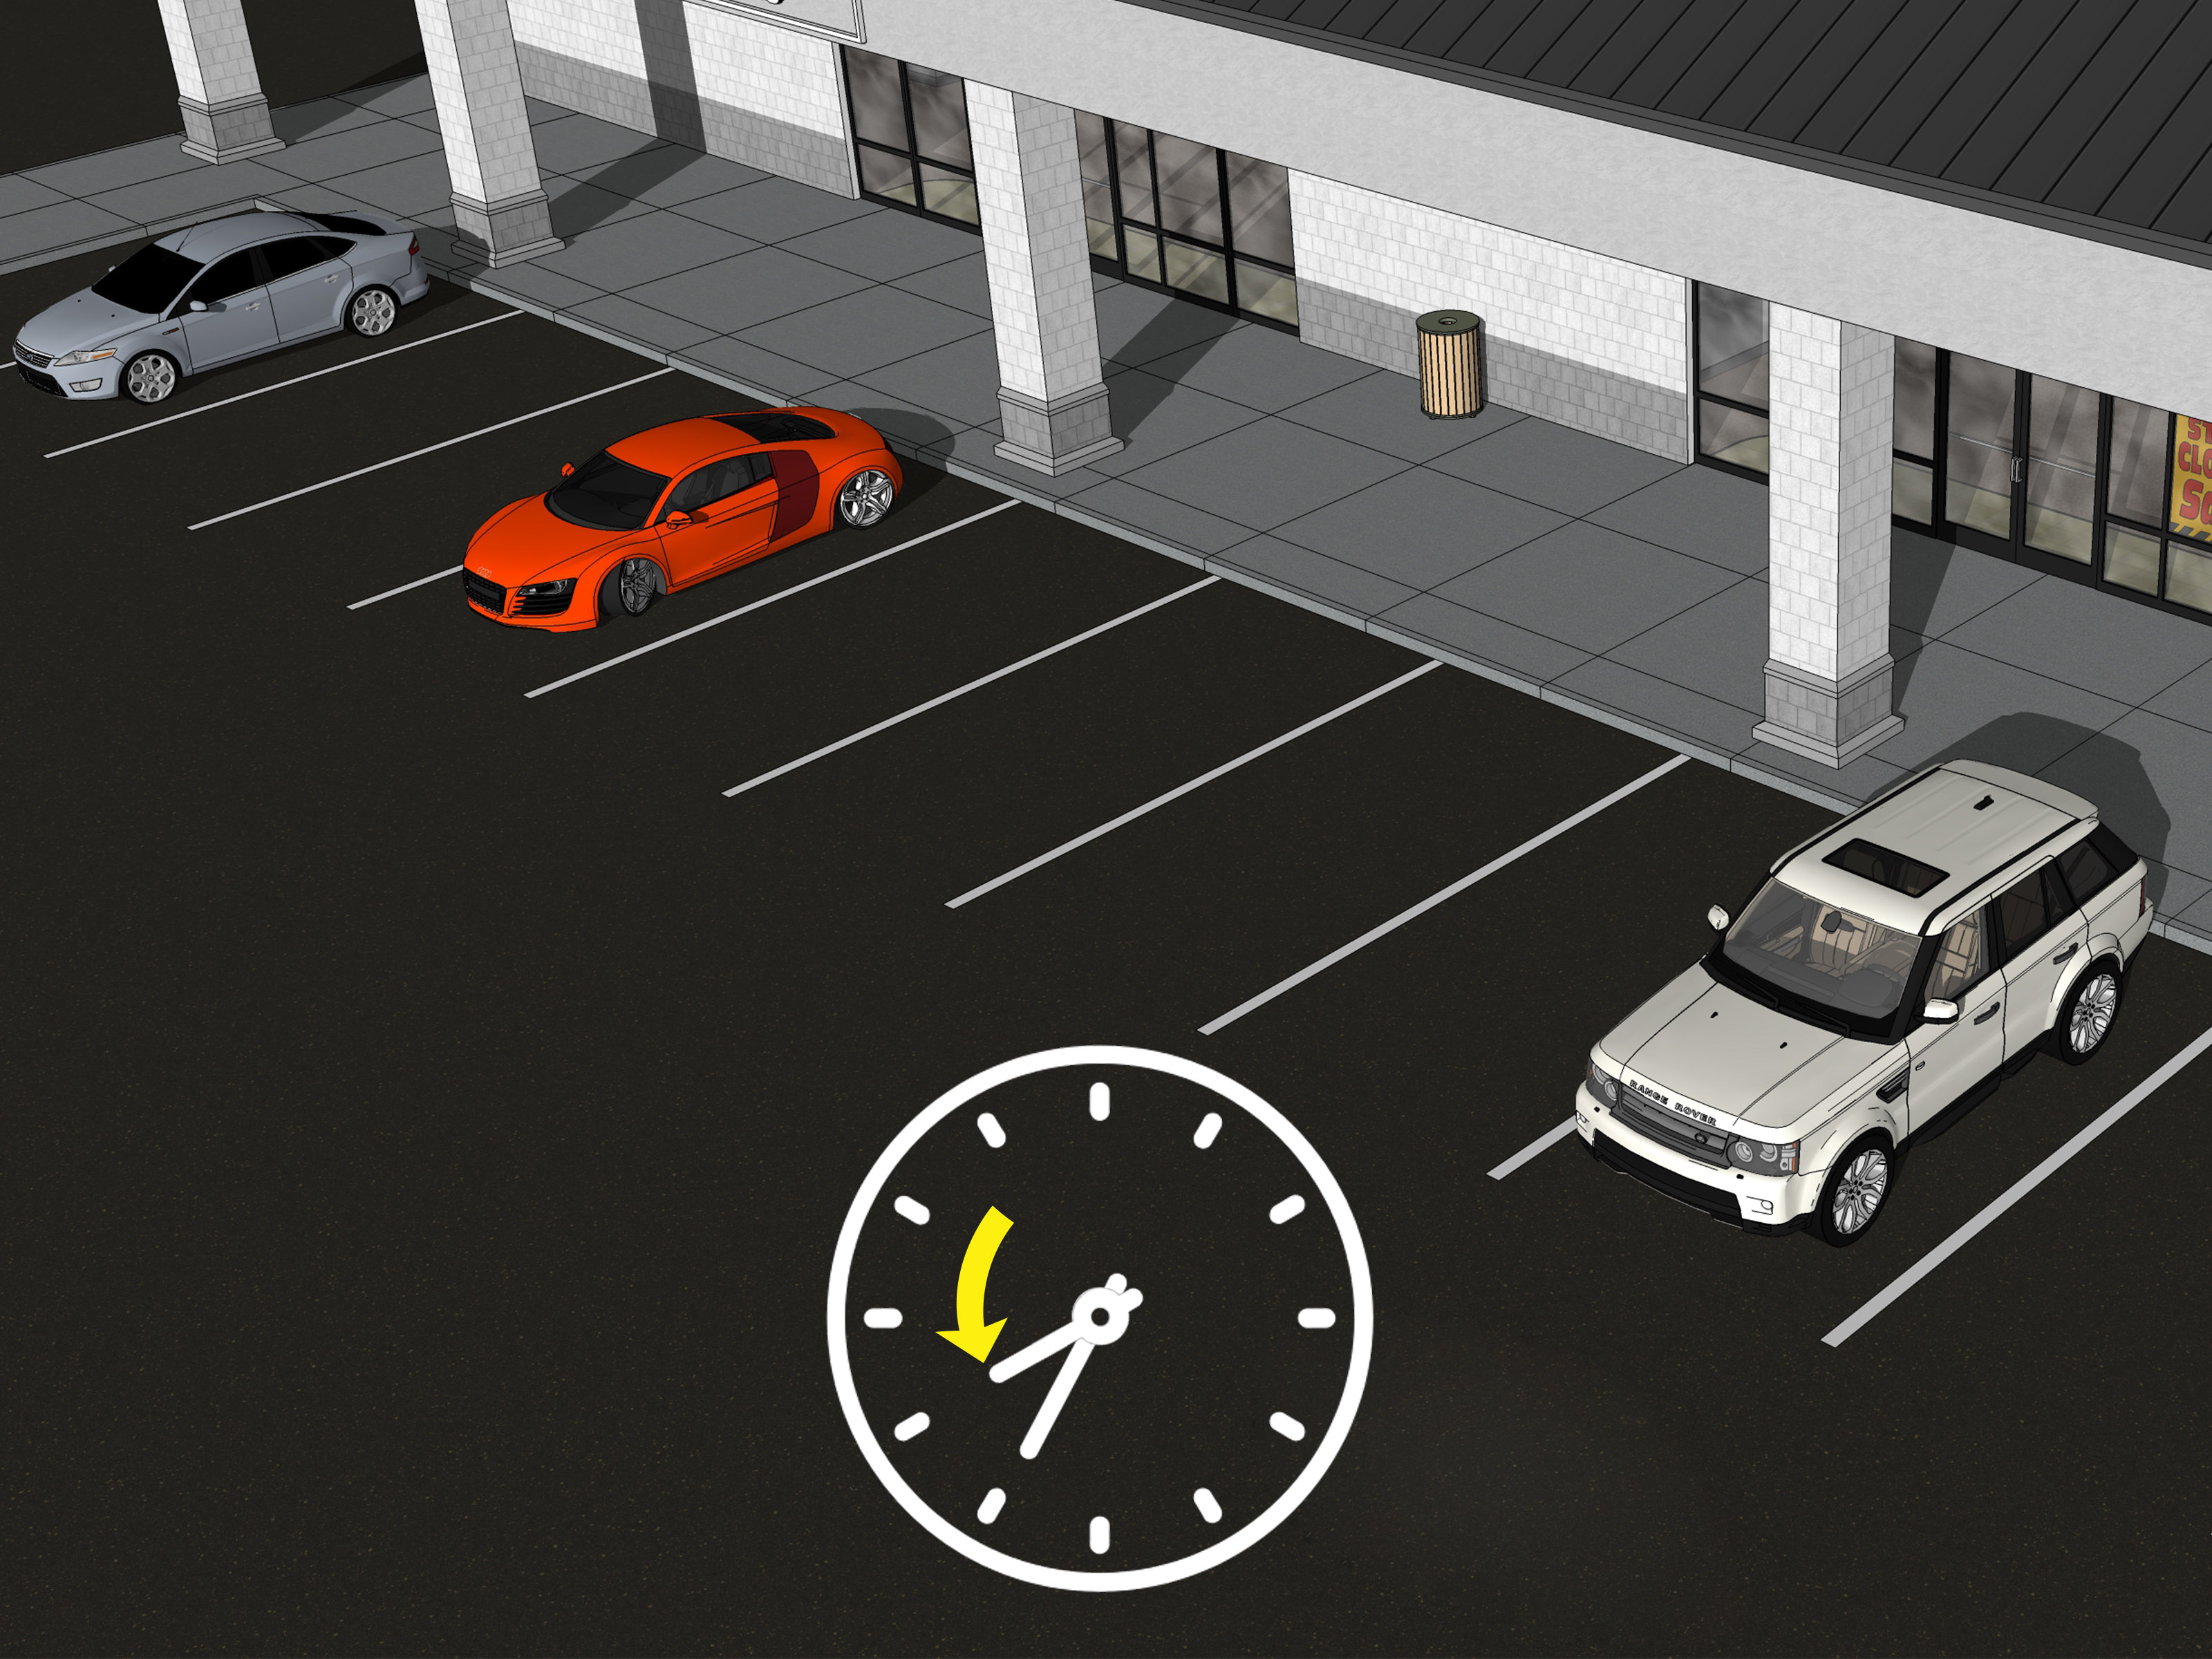empyt_space: (934, 648, 1737, 1075), (1183, 739, 1892, 1194), (714, 575, 1447, 945), (523, 491, 1247, 812), (31, 307, 745, 545), (174, 364, 798, 615)
